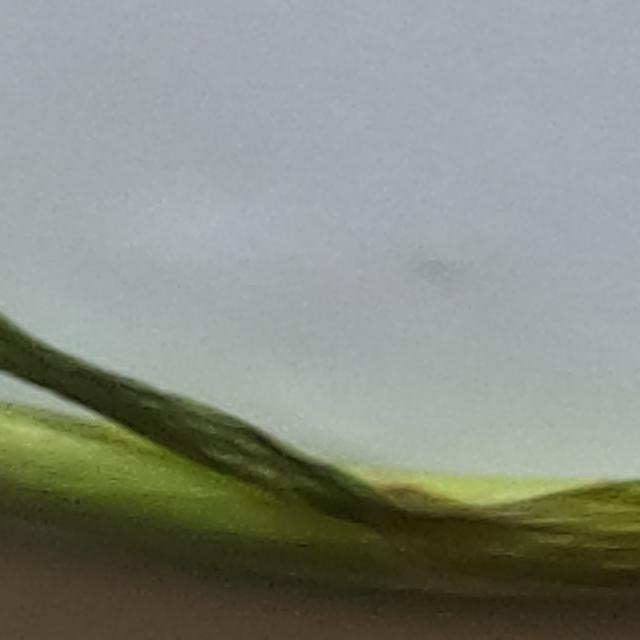green_onion: (0, 321, 640, 624)
